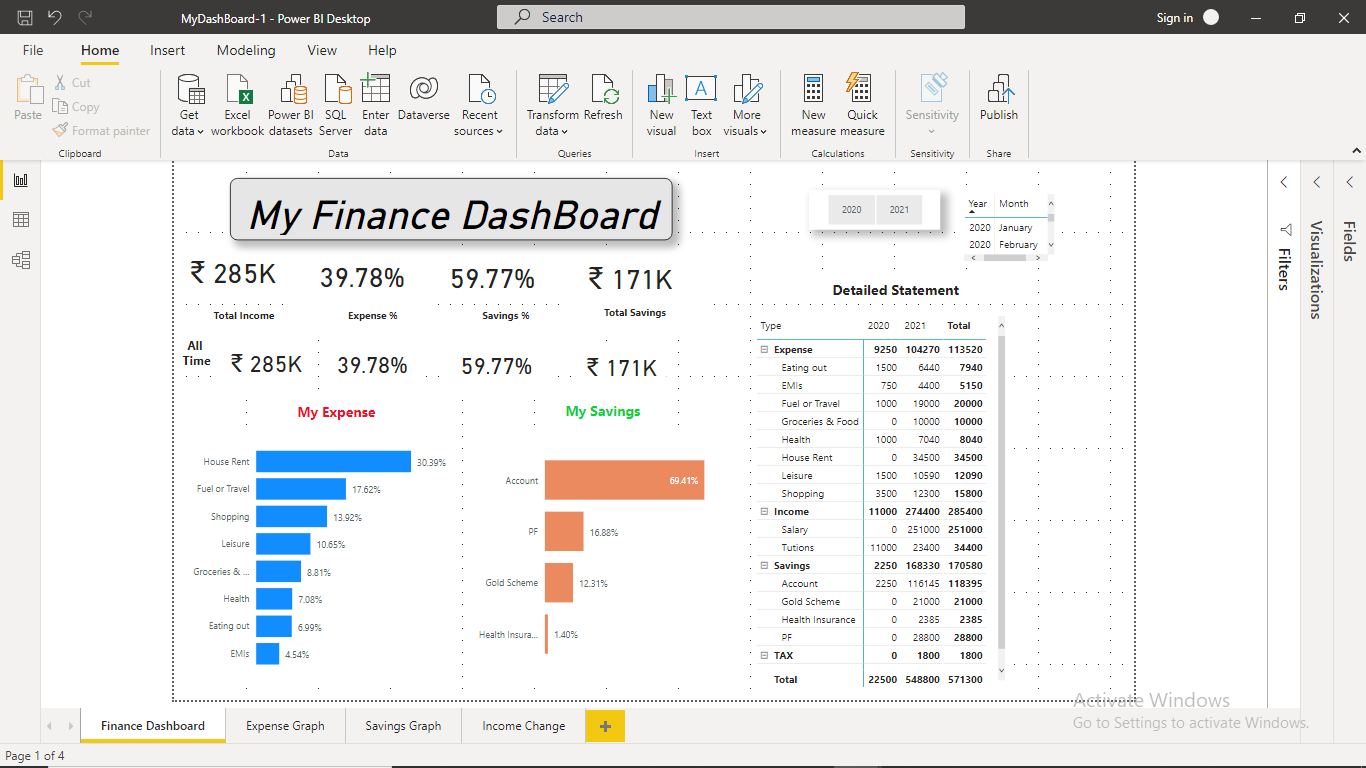

The dashboard page shown, as its layout file describes it:
{"tool":"powerbi","page":{"name":"Finance Dashboard","canvas":[1280,720],"ordinal":0},"visuals":[{"type":"card","fields":{"Values":["Key Measures.Total income"]},"box":[9.7,108.5,137.7,80.7],"z":0},{"type":"card","fields":{"Values":["Key Measures.Expense %"]},"box":[151.7,105.7,197.6,96],"z":1000},{"type":"card","fields":{"Values":["Key Measures.Savings %"]},"box":[324.2,121,200.3,68.2],"z":2000},{"type":"card","fields":{"Values":["Key Measures.Total Savings"]},"box":[507.8,122.4,200.3,68.2],"z":3000},{"type":"textbox","box":[0,193.4,186.4,45.9],"z":4000},{"type":"textbox","box":[172.5,193.4,186.4,36.2],"z":5000},{"type":"textbox","box":[349.2,193.4,186.4,36.2],"z":6000},{"type":"textbox","box":[521.7,189.2,186.4,36.2],"z":7000},{"type":"slicer","fields":{"Values":["FinDataUpdated-1.Year"]},"box":[847.3,40.3,175.3,52.9],"z":8000},{"type":"tableEx","fields":{"Values":["FinDataUpdated-1.Date.Variation.Date Hierarchy.Year","FinDataUpdated-1.Date.Variation.Date Hierarchy.Month"]},"box":[1047.7,40.3,130.8,100.2],"z":9000},{"type":"card","fields":{"Values":["Key Measures.Total income"]},"box":[57,229.6,130.8,82.1],"z":10000},{"type":"card","fields":{"Values":["Key Measures.Expense %"]},"box":[199,231,132.2,82.1],"z":11000},{"type":"card","fields":{"Values":["Key Measures.Savings %"]},"box":[359,239.3,141.9,68.2],"z":12000},{"type":"card","fields":{"Values":["Key Measures.Total Savings"]},"box":[535.7,240.7,121,66.8],"z":13000},{"type":"textbox","box":[0,231,59.8,55.7],"z":14000},{"type":"card","fields":{"Values":["Key Measures.Title"]},"box":[75.1,23.7,589.9,83.5],"z":15000},{"type":"clusteredBarChart","fields":{"Y":["Key Measures.Total Expense"],"Category":["FinDataUpdated-1.Component"]},"box":[5.6,360.3,364.5,332.5],"z":16000},{"type":"clusteredBarChart","fields":{"Y":["Key Measures.Total Savings"],"Category":["FinDataUpdated-1.Component"]},"box":[389.6,360.3,367.3,332.5],"z":17000},{"type":"textbox","box":[109.9,317.2,214.3,43.1],"z":18000},{"type":"textbox","box":[484.2,315.8,175.3,44.5],"z":19000},{"type":"pivotTable","fields":{"Values":["Sum(FinDataUpdated-1.Value)"],"Columns":["FinDataUpdated-1.Year"],"Rows":["FinDataUpdated-1.Type","FinDataUpdated-1.Component"]},"box":[772.2,203.1,340.9,505],"z":20000},{"type":"textbox","box":[847.3,154.4,231,36.2],"z":21000}]}

Visuals, with their boxes on the page's 1280x720 design canvas (x1, y1, x2, y2). These are canvas units, not pixel positions in the 1366x768 screenshot, which may show the page scaled, cropped or inside an application window:
card - Key Measures.Total income: (x1=10, y1=108, x2=147, y2=189)
card - Key Measures.Expense %: (x1=152, y1=106, x2=349, y2=202)
card - Key Measures.Savings %: (x1=324, y1=121, x2=524, y2=189)
card - Key Measures.Total Savings: (x1=508, y1=122, x2=708, y2=191)
textbox: (x1=0, y1=193, x2=186, y2=239)
textbox: (x1=172, y1=193, x2=359, y2=230)
textbox: (x1=349, y1=193, x2=536, y2=230)
textbox: (x1=522, y1=189, x2=708, y2=225)
slicer - FinDataUpdated-1.Year: (x1=847, y1=40, x2=1023, y2=93)
tableEx - FinDataUpdated-1.Date.Variation.Date Hierarchy.Year x FinDataUpdated-1.Date.Variation.Date Hierarchy.Month: (x1=1048, y1=40, x2=1178, y2=140)
card - Key Measures.Total income: (x1=57, y1=230, x2=188, y2=312)
card - Key Measures.Expense %: (x1=199, y1=231, x2=331, y2=313)
card - Key Measures.Savings %: (x1=359, y1=239, x2=501, y2=308)
card - Key Measures.Total Savings: (x1=536, y1=241, x2=657, y2=308)
textbox: (x1=0, y1=231, x2=60, y2=287)
card - Key Measures.Title: (x1=75, y1=24, x2=665, y2=107)
clusteredBarChart - Key Measures.Total Expense x FinDataUpdated-1.Component: (x1=6, y1=360, x2=370, y2=693)
clusteredBarChart - Key Measures.Total Savings x FinDataUpdated-1.Component: (x1=390, y1=360, x2=757, y2=693)
textbox: (x1=110, y1=317, x2=324, y2=360)
textbox: (x1=484, y1=316, x2=660, y2=360)
pivotTable - Sum(FinDataUpdated-1.Value) x FinDataUpdated-1.Year: (x1=772, y1=203, x2=1113, y2=708)
textbox: (x1=847, y1=154, x2=1078, y2=191)
